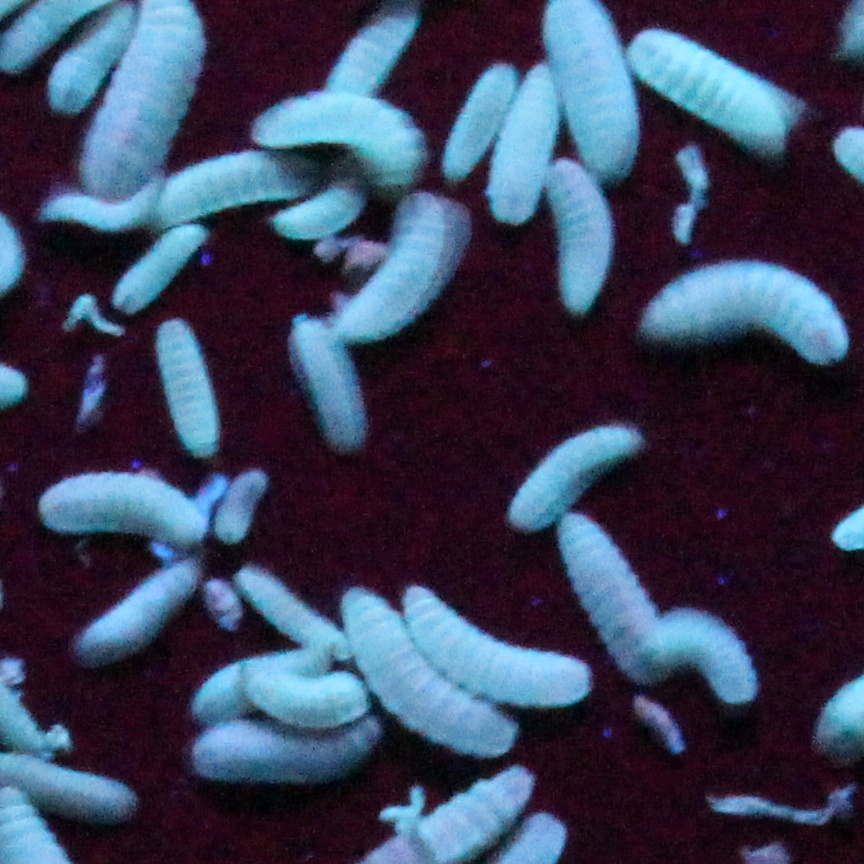larve: (349, 587, 520, 750), (643, 262, 852, 373), (404, 584, 589, 704), (627, 19, 800, 146), (558, 514, 656, 680), (339, 197, 455, 336), (255, 97, 418, 193), (508, 419, 651, 528), (155, 148, 314, 225), (83, 559, 198, 663), (643, 611, 765, 708), (41, 476, 207, 546), (489, 59, 560, 222), (197, 645, 332, 721), (542, 160, 608, 314), (190, 726, 379, 779), (49, 3, 139, 114), (238, 566, 342, 656), (289, 317, 358, 450), (442, 57, 514, 183), (158, 324, 220, 455), (245, 665, 366, 729), (328, 4, 414, 93), (41, 172, 167, 228), (118, 234, 210, 310), (272, 195, 362, 243), (218, 469, 265, 549)
